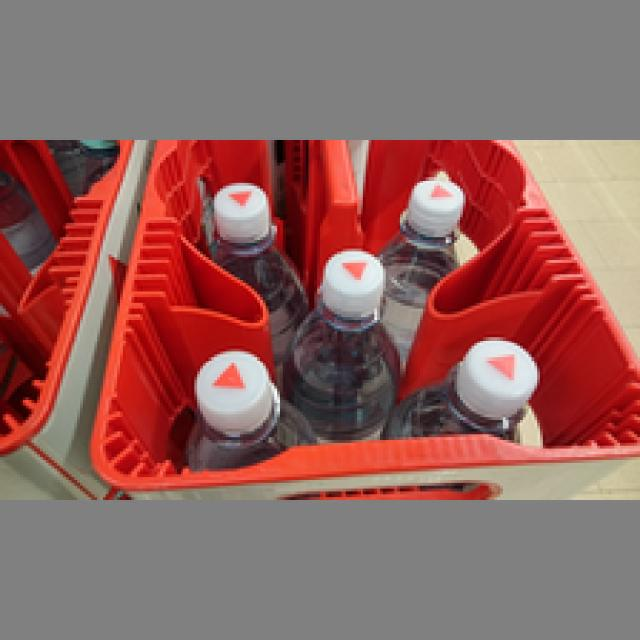groceries: (283, 248, 397, 432), (169, 334, 320, 457), (380, 326, 529, 437), (200, 177, 306, 329), (366, 165, 451, 328)
